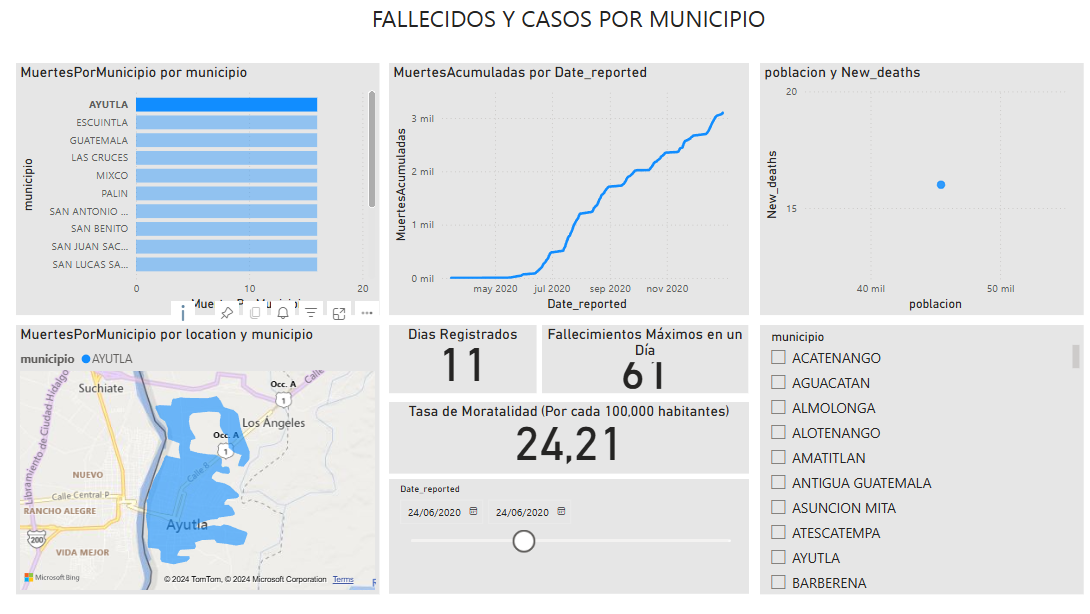

The page's visual inventory and layout, read from the dashboard file:
{"tool":"powerbi","page":{"name":"Dashboard1","canvas":[1280,720],"ordinal":0},"visuals":[{"type":"clusteredBarChart","fields":{"Category":["municipio.municipio"],"Y":["evento.MuertesPorMunicipio"]},"box":[23.3,80.7,421.3,292],"z":0},{"type":"lineChart","fields":{"Y":["reporte_nacional.MuertesAcumuladas"],"Category":["reporte_nacional.Date_reported"]},"box":[454.7,80.7,416.7,292],"z":1000},{"type":"filledMap","fields":{"Category":["municipio.location"],"Series":["municipio.municipio"]},"box":[23.3,379.3,421.3,316.7],"z":2000},{"type":"slicer","fields":{"Values":["municipio.municipio"]},"box":[885.3,379.3,375.3,316.7],"z":3000},{"type":"scatterChart","fields":{"Y":["reporte_nacional.New_deaths"],"X":["municipio.poblacion"]},"box":[885.3,80.7,375.3,292],"z":4000},{"type":"card","title":"Tasa de Moratalidad (Por cada 100,000 habitantes)","fields":{"Values":["reporte_nacional.TasaDeMortalidad"]},"box":[454.7,474,416.7,83.3],"z":5000},{"type":"card","title":"Fallecimientos Máximos en un Día","fields":{"Values":["reporte_nacional.MaximosFallecimientos"]},"box":[632.7,379.3,238.7,84],"z":6000},{"type":"card","title":"Dias Registrados","fields":{"Values":["reporte_nacional.DiasRegistrados"]},"box":[454.7,379.3,170.7,84],"z":7000},{"type":"slicer","fields":{"Values":["evento.Date_reported"]},"box":[454.7,563.3,416.7,132.7],"z":8000},{"type":"textbox","box":[406.7,5.3,513.3,61.3],"z":9000}]}

Visuals, with their boxes in screenshot pixels (x1, y1, x2, y2), scaled from the page's 1280x720 canvas onto the 1090x614 screenshot:
clusteredBarChart - municipio.municipio x evento.MuertesPorMunicipio: (left=20, top=69, right=379, bottom=318)
lineChart - reporte_nacional.MuertesAcumuladas x reporte_nacional.Date_reported: (left=387, top=69, right=742, bottom=318)
filledMap - municipio.location x municipio.municipio: (left=20, top=323, right=379, bottom=594)
slicer - municipio.municipio: (left=754, top=323, right=1073, bottom=594)
scatterChart - reporte_nacional.New_deaths x municipio.poblacion: (left=754, top=69, right=1073, bottom=318)
"Tasa de Moratalidad (Por cada 100,000 habitantes)" card: (left=387, top=404, right=742, bottom=475)
"Fallecimientos Máximos en un Día" card: (left=539, top=323, right=742, bottom=395)
"Dias Registrados" card: (left=387, top=323, right=533, bottom=395)
slicer - evento.Date_reported: (left=387, top=480, right=742, bottom=594)
textbox: (left=346, top=5, right=783, bottom=57)
